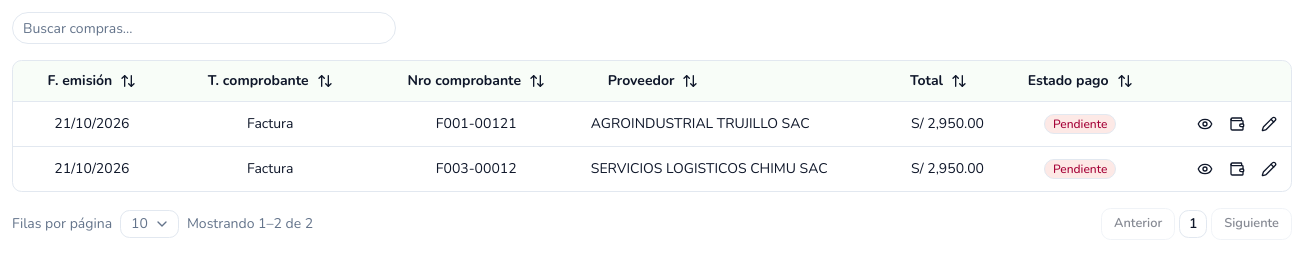
it: PurchasesDataTable › el buscador filtra por nombre de proveedor
Step 1. Type "AGROINDUSTRIAL" into the field with placeholder "Buscar compras..." → (204, 28), box [12,12,396,44]
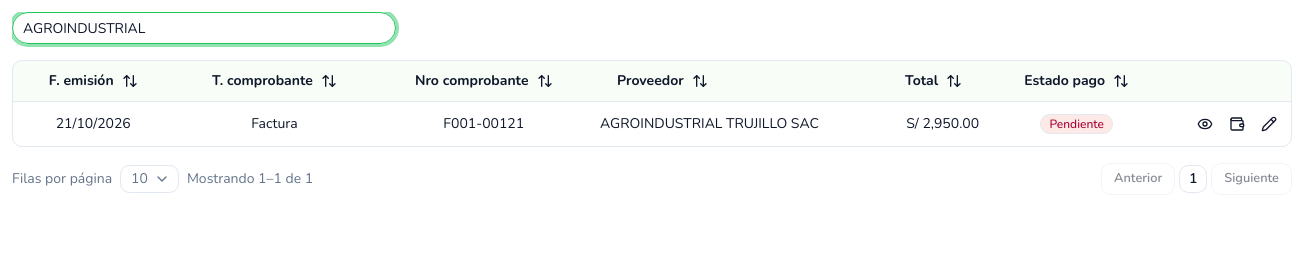
Expected: the text "AGROINDUSTRIAL TRUJILLO SAC" is shown, [600,114,855,134]
Now the text "SERVICIOS LOGISTICOS CHIMU SAC" is gone
